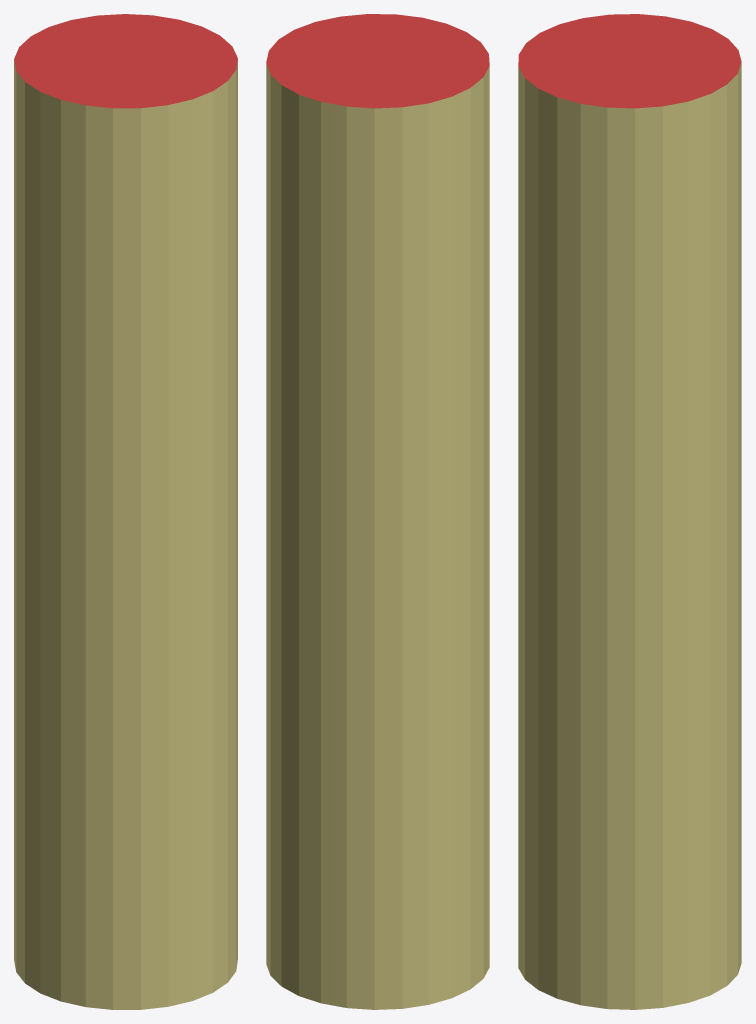
The picture shows the model from 3 angles, left to right: view 1: azimuth 30°, elevation 25°; view 2: azimuth 150°, elevation 25°; view 3: azimuth 270°, elevation 25°; orthographic projection.
Bounding box in the file's own units: 3.45 × 3.45 × 15.36.
